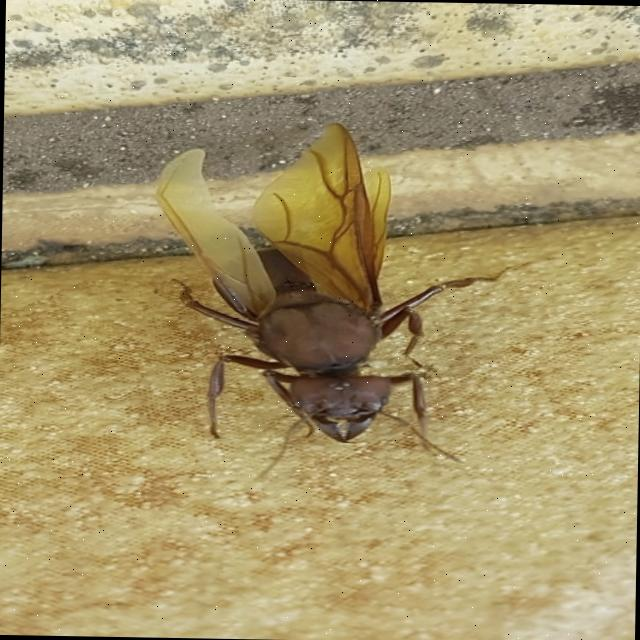Alive-Female-Alate: (148, 118, 566, 486)
